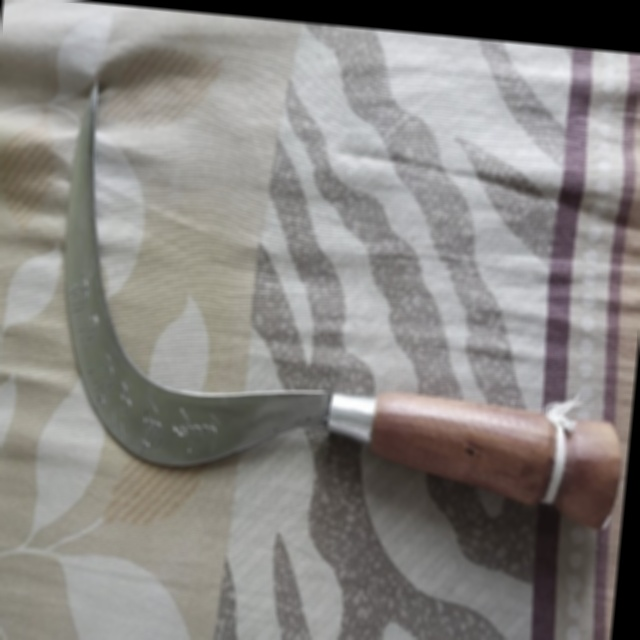Sharp-Object: (39, 76, 640, 523)
